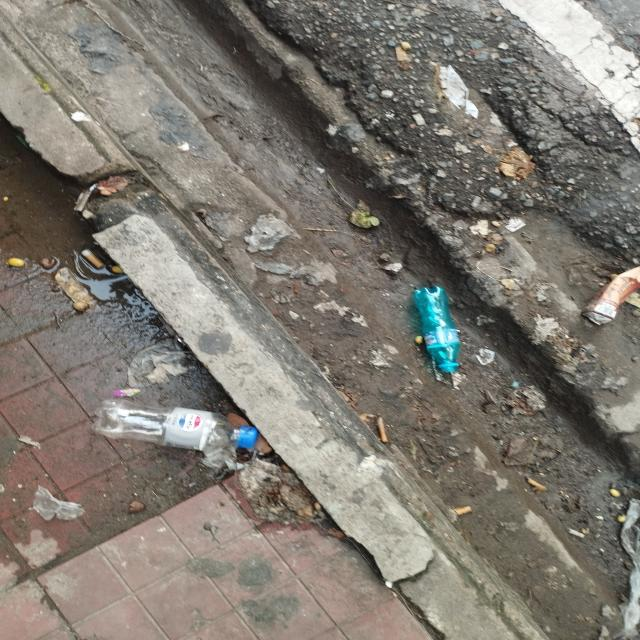plastic: (89, 398, 260, 454), (410, 289, 473, 375)
